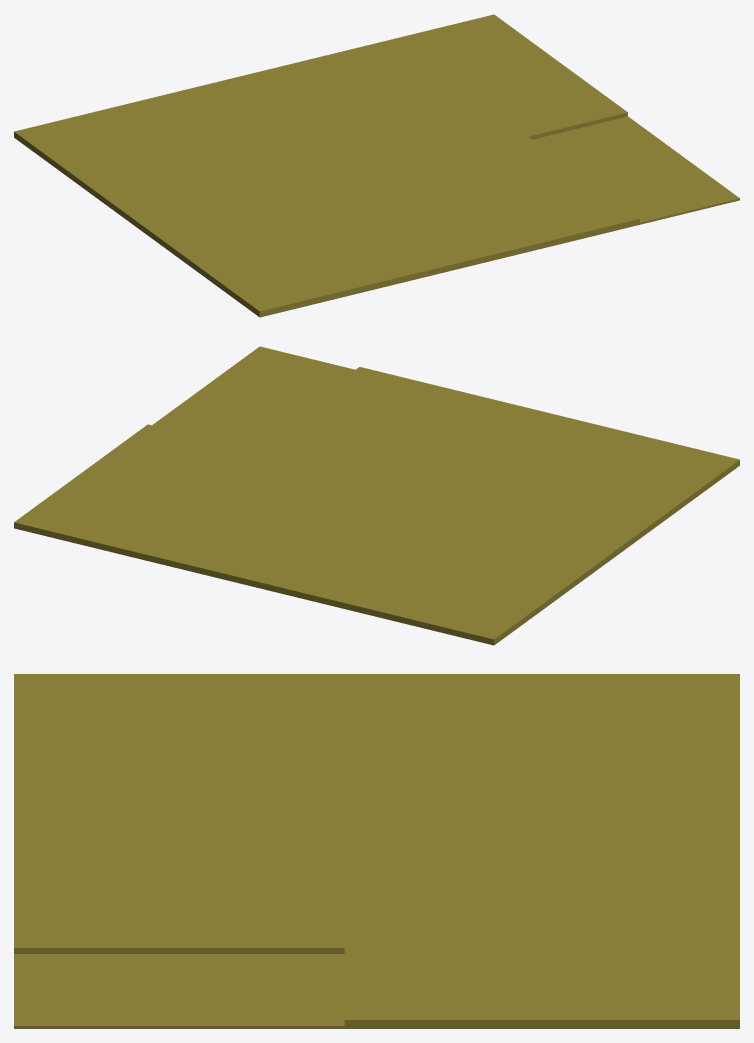
The model's file is plane_ground_city.FBX.
The picture shows the model from 3 angles, top to bottom: view 1: azimuth 30°, elevation 25°; view 2: azimuth 150°, elevation 25°; view 3: azimuth 270°, elevation 25°; orthographic projection. The views are drawn at different scales.
Parts seen in each view (by area): view 1: Box1525; view 2: Box1525; view 3: Box1525.
Part boxes in pixels (x1,y1,x2,y2): Box1525: [14, 14, 739, 317]; Box1525: [14, 346, 739, 645]; Box1525: [14, 674, 739, 1028].
Bounding box in the file's own units: 104 × 1.25 × 92.14.
